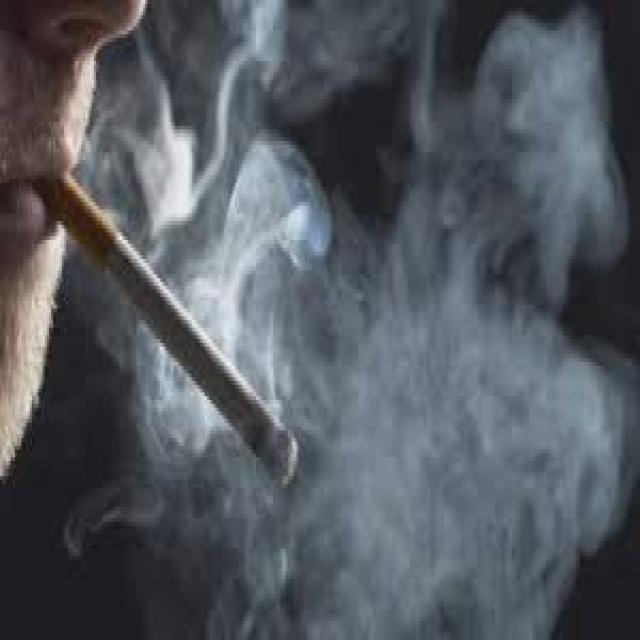Smoke: (81, 0, 640, 640)
